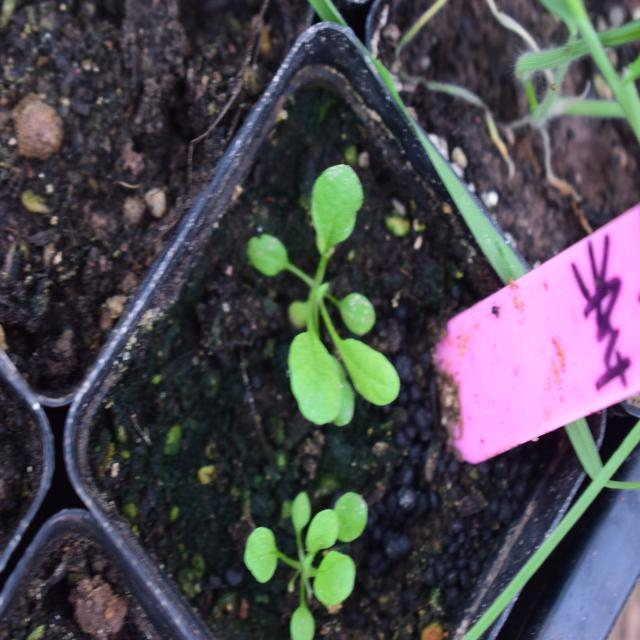Shepherd_Purse: (278, 152, 394, 436)
